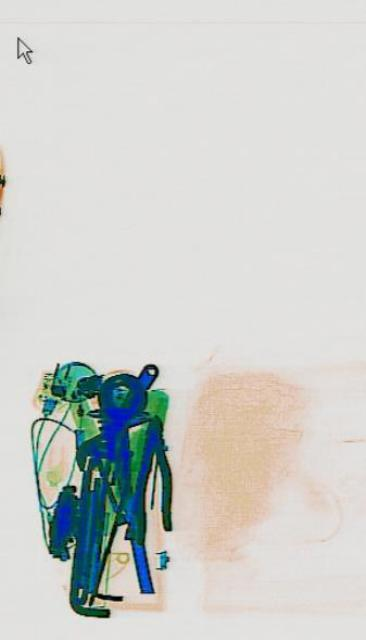Pliers: (131, 411, 172, 544)
